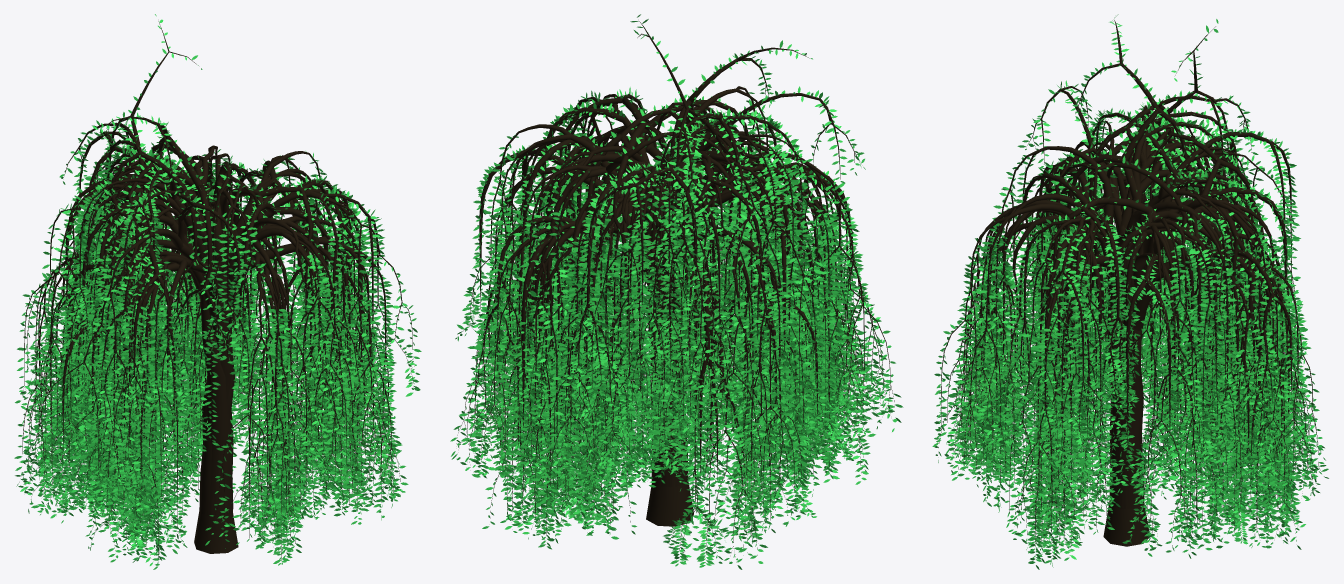
Rendered from ArcaneWillow.glb.
3 views of the same model, side by side, from view 1: azimuth 30°, elevation 25°; view 2: azimuth 150°, elevation 25°; view 3: azimuth 270°, elevation 25° (orthographic). The views are drawn at different scales.
Parts seen in each view (by area): view 1: leaves, tree; view 2: leaves, tree; view 3: leaves, tree.
Boxes of the visible parts, box(x1,y1,x2,y2) form: leaves: box(14, 14, 421, 569); tree: box(22, 21, 414, 560); leaves: box(450, 14, 903, 569); tree: box(456, 21, 894, 562); leaves: box(932, 14, 1328, 569); tree: box(938, 20, 1320, 547).
Bounding box in the file's own units: 25.89 × 33.66 × 23.8.
